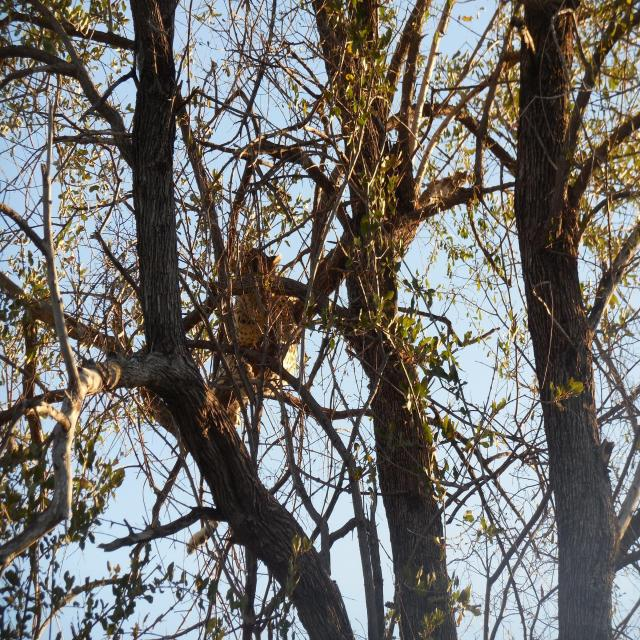Leopard: (202, 243, 294, 432)
